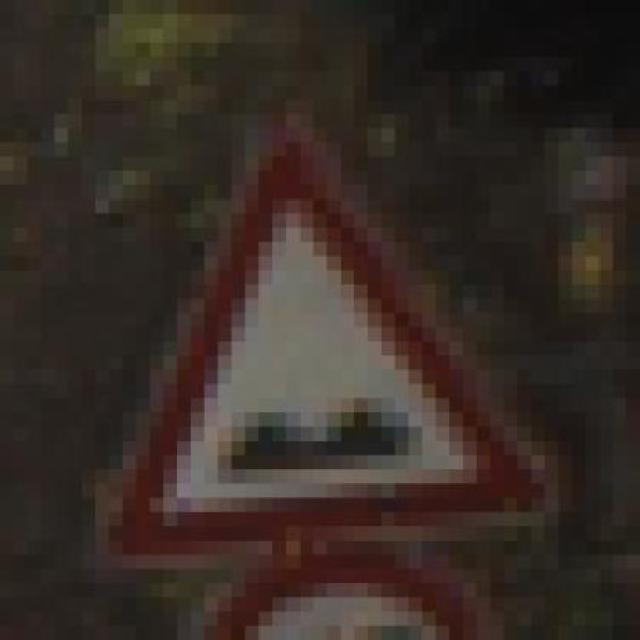Uneven Road: (82, 113, 586, 555)
